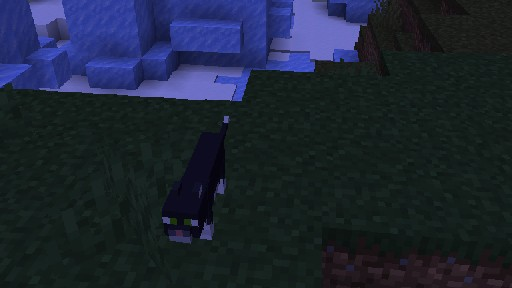cat: (161, 115, 229, 243)
